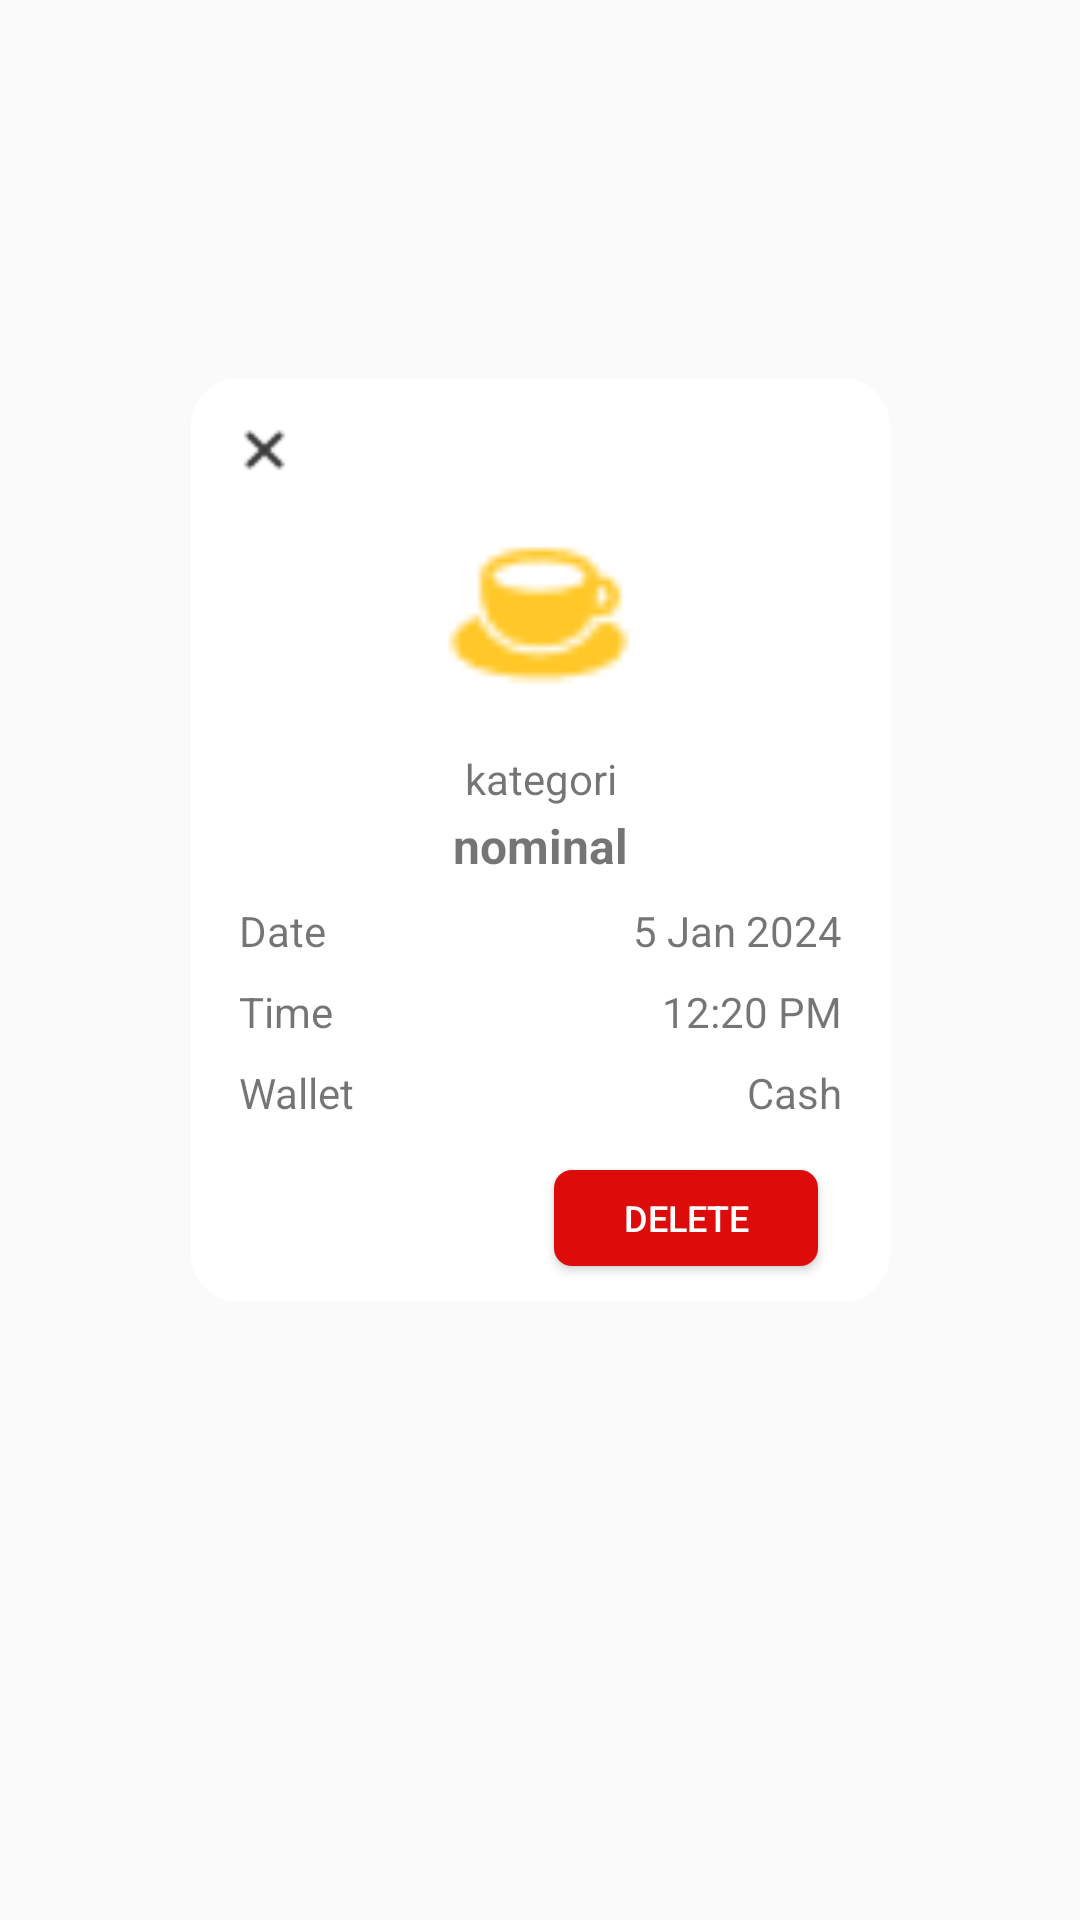

Icons on this 1080w x 1920h Android screen, each with its box as BBox(x1, y1, x2, y2):
food: BBox(448, 547, 630, 683)
